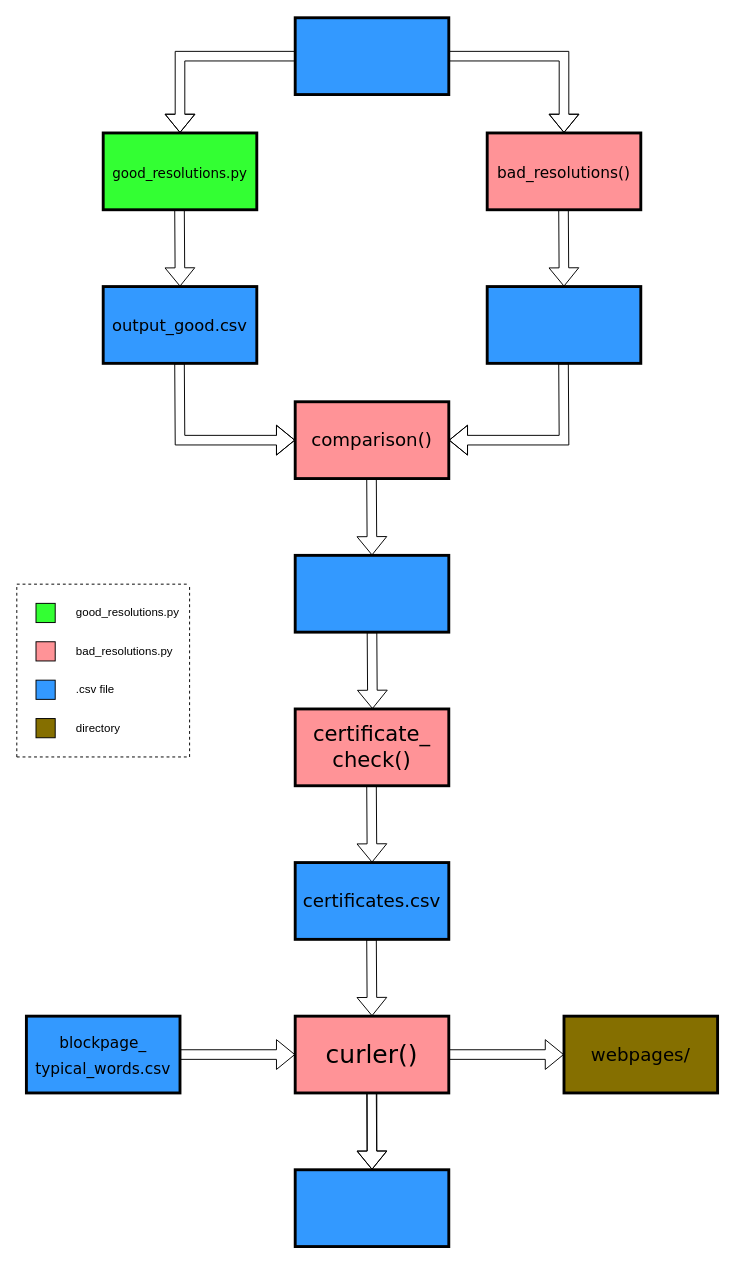
Some shapes in this 735 by 1264 pixel diagram are drawn without their labels. Each missing label, with the centre of its shape:
"input.csv" belongs at point 371,56.
"mismatched_ resolutions.csv" belongs at point 371,593.
"output_bad.csv" belongs at point 563,324.
"webpages.csv" belongs at point 371,1208.
